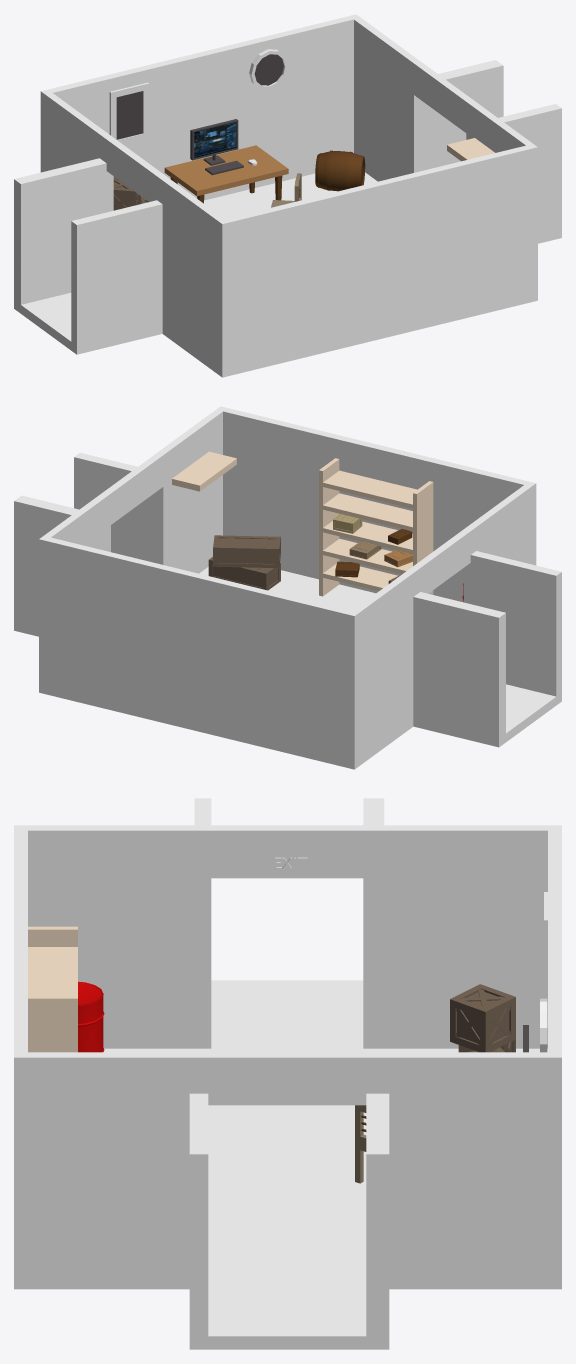
The model's file is Interrior Tunnel.fbx.
3 views of the same model, one above another, from view 1: azimuth 30°, elevation 25°; view 2: azimuth 150°, elevation 25°; view 3: azimuth 270°, elevation 25° (orthographic). The views are drawn at different scales.
Parts seen in each view (by area): view 1: polySurface219, polySurface213, polySurface218, polySurface228, polySurface140, polySurface212, polySurface134, polySurface188; view 2: polySurface219, polySurface172, polySurface169, polySurface155, polySurface168, polySurface167, polySurface134, polySurface138, polySurface156, polySurface157, polySurface154; view 3: polySurface219, polySurface188, polySurface168, polySurface169, polySurface136, polySurface167, polySurface222.
Part boxes in pixels (<box>): polySurface219: <box>14,14,561,377</box>; polySurface213: <box>164,145,288,203</box>; polySurface218: <box>109,82,149,144</box>; polySurface228: <box>190,119,257,175</box>; polySurface140: <box>315,150,365,191</box>; polySurface212: <box>249,49,288,89</box>; polySurface134: <box>447,138,494,161</box>; polySurface188: <box>113,176,148,210</box>; polySurface219: <box>14,406,561,769</box>; polySurface172: <box>213,535,280,568</box>; polySurface169: <box>323,470,416,508</box>; polySurface155: <box>323,493,414,531</box>; polySurface168: <box>319,458,339,596</box>; polySurface167: <box>413,481,433,594</box>; polySurface134: <box>172,451,236,491</box>; polySurface138: <box>208,557,280,590</box>; polySurface156: <box>323,521,413,554</box>; polySurface157: <box>322,538,412,574</box>; polySurface154: <box>323,561,398,591</box>; polySurface219: <box>14,798,561,1349</box>; polySurface188: <box>450,984,515,1052</box>; polySurface168: <box>28,995,77,1052</box>; polySurface169: <box>28,947,77,995</box>; polySurface136: <box>78,981,104,1052</box>; polySurface167: <box>28,926,77,946</box>; polySurface222: <box>355,1105,366,1183</box>.
Bounding box in the file's own units: 3.64 × 1.1 × 2.37.
1 material, 1 textured.
